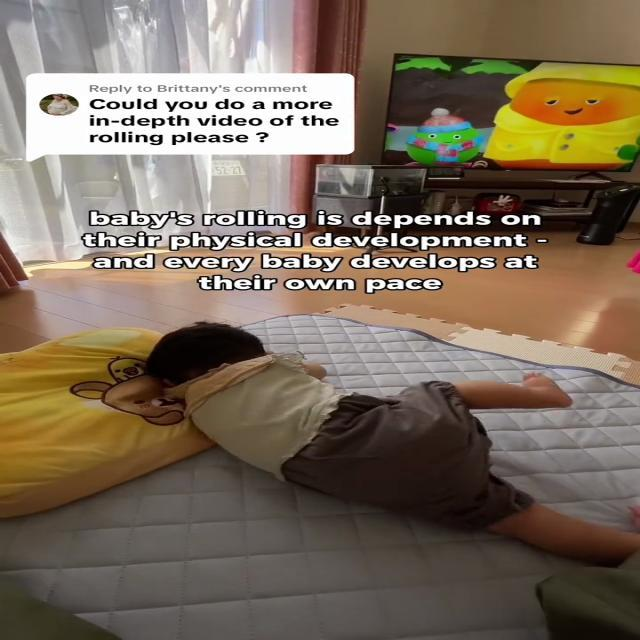baby: (146, 320, 640, 572)
